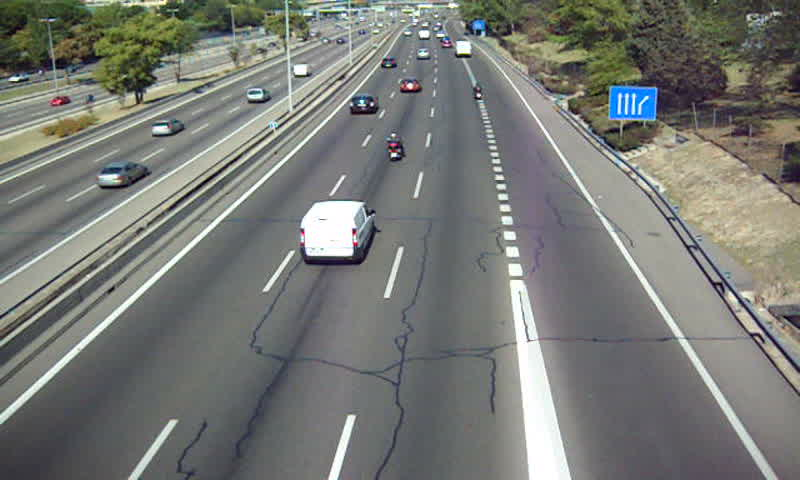car: (347, 92, 381, 116), (398, 78, 420, 94), (379, 56, 396, 70), (415, 47, 430, 60)
motorcycle: (386, 132, 402, 164), (473, 82, 483, 103)
van: (299, 201, 376, 267), (456, 40, 473, 58)
